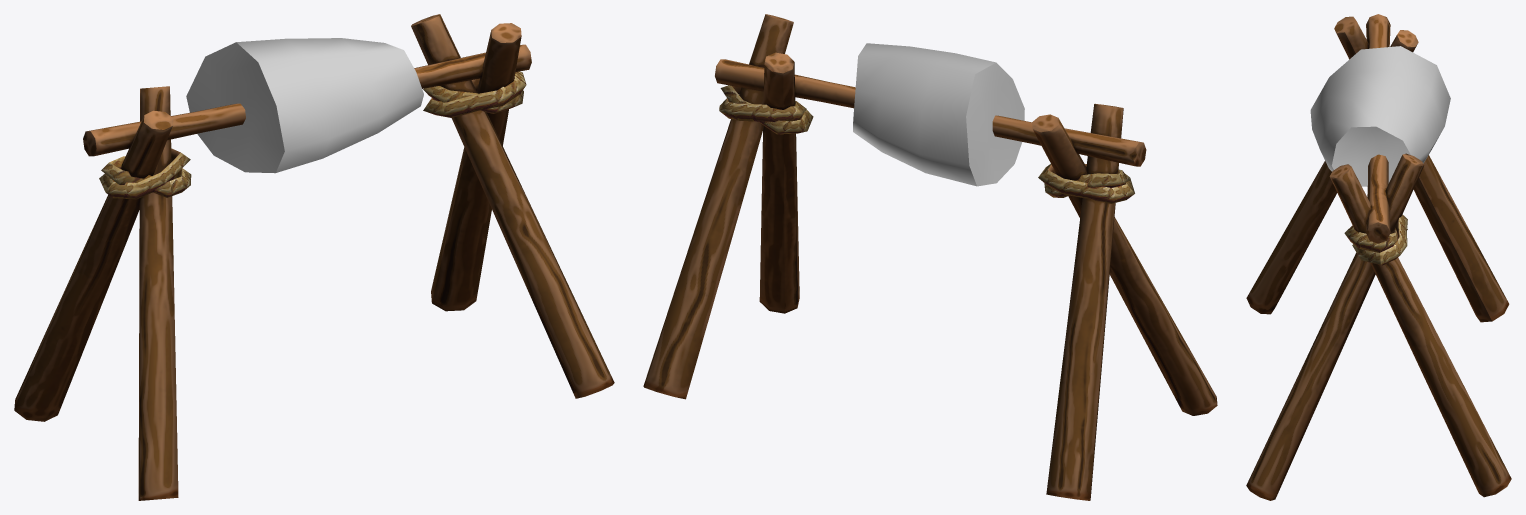
The model's file is Rack_meat.fbx.
3 renders of one model, left to right at view 1: azimuth 30°, elevation 25°; view 2: azimuth 150°, elevation 25°; view 3: azimuth 270°, elevation 25°, orthographic. The views are drawn at different scales.
Parts seen in each view (by area): view 1: Rack.001; view 2: Rack.001; view 3: Rack.001.
Part boxes in pixels (x1,y1,x2,y2): Rack.001: [14, 14, 614, 500]; Rack.001: [643, 14, 1217, 500]; Rack.001: [1246, 14, 1511, 500].
Bounding box in the file's own units: 3.44 × 2.59 × 1.86.
